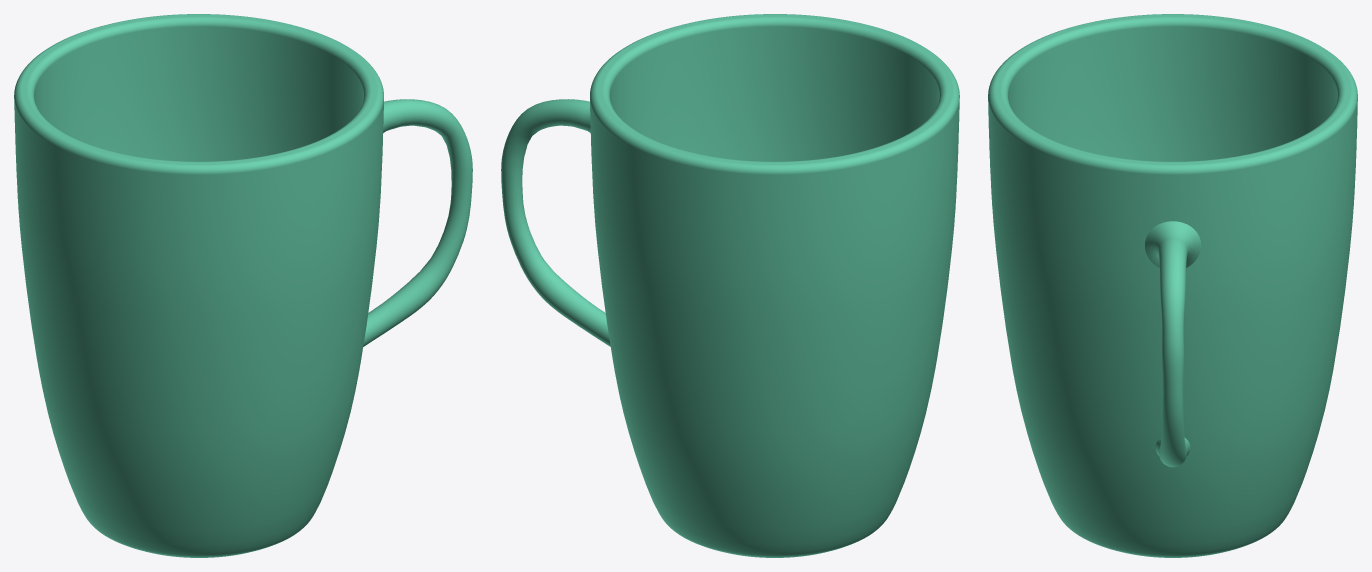
Rendered from 馬克杯.glb.
3 views of the same model, side by side, from view 1: azimuth 30°, elevation 25°; view 2: azimuth 150°, elevation 25°; view 3: azimuth 270°, elevation 25° (orthographic).
Bounding box in the file's own units: 0.0198 × 0.0191 × 0.0147.
